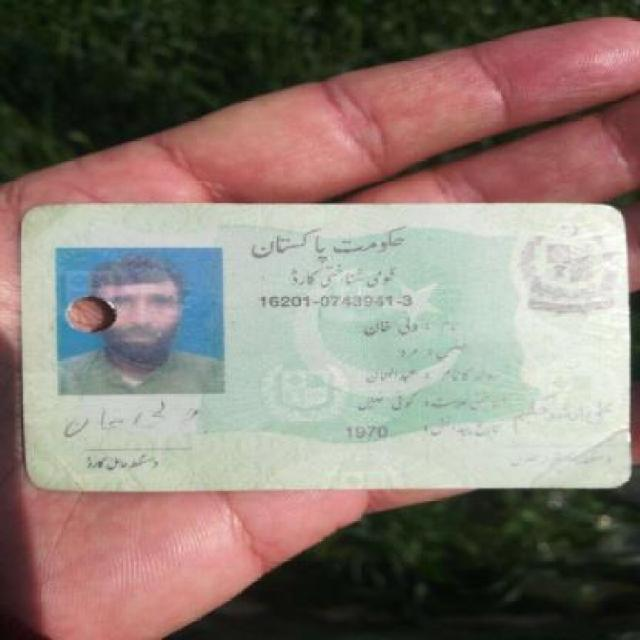Front: (4, 195, 638, 494)
